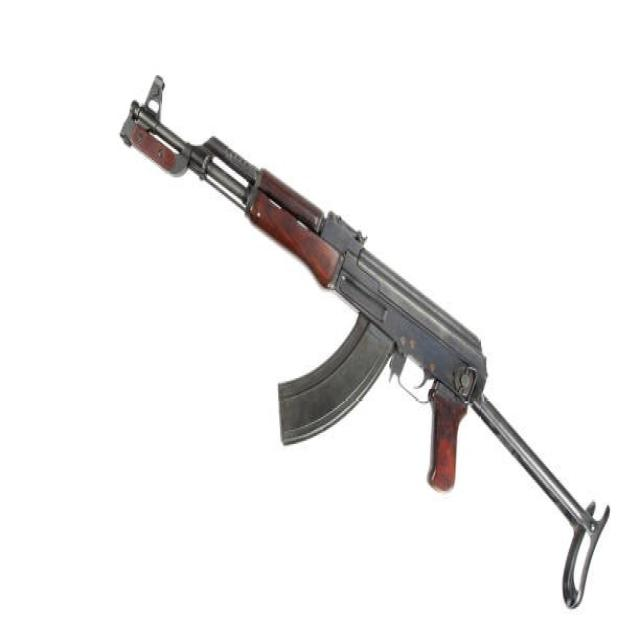rifle: (116, 69, 613, 617)
